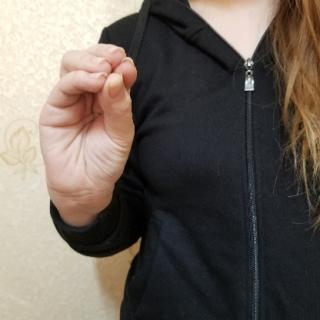HA: (33, 34, 148, 214)
